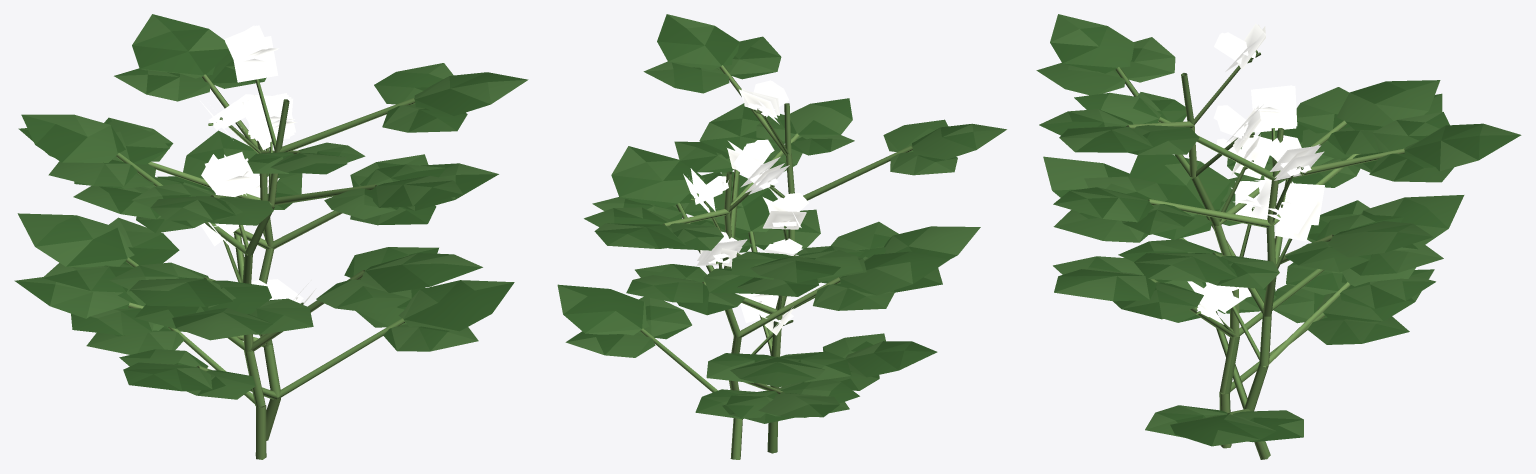
Rendered from haricot_fleurs.glb.
The picture shows the model from 3 angles, left to right: view 1: azimuth 30°, elevation 25°; view 2: azimuth 150°, elevation 25°; view 3: azimuth 270°, elevation 25°; orthographic projection. The views are drawn at different scales.
Visible parts, largest first — view 1: Haricot_Feuilles, Haricot_Tiges, Haricot_Fleurs; view 2: Haricot_Feuilles, Haricot_Fleurs, Haricot_Tiges; view 3: Haricot_Feuilles, Haricot_Tiges, Haricot_Fleurs.
Boxes of the visible parts, left/top/right/bottom form: Haricot_Feuilles: left=14, top=14, right=528, bottom=399; Haricot_Tiges: left=116, top=74, right=414, bottom=459; Haricot_Fleurs: left=199, top=25, right=316, bottom=304; Haricot_Feuilles: left=557, top=14, right=1006, bottom=423; Haricot_Fleurs: left=683, top=80, right=808, bottom=335; Haricot_Tiges: left=640, top=65, right=912, bottom=459; Haricot_Feuilles: left=1036, top=14, right=1521, bottom=446; Haricot_Tiges: left=1115, top=50, right=1404, bottom=459; Haricot_Fleurs: left=1187, top=23, right=1324, bottom=324.
Bounding box in the file's own units: 0.3845 × 0.3594 × 0.3767.
